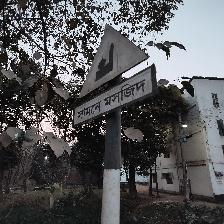Mosque in front: (72, 24, 157, 128)
